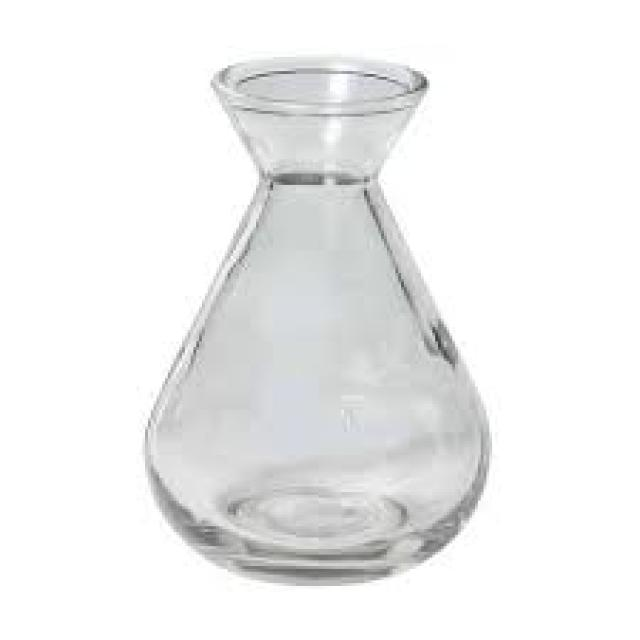glass: (143, 51, 487, 580)
